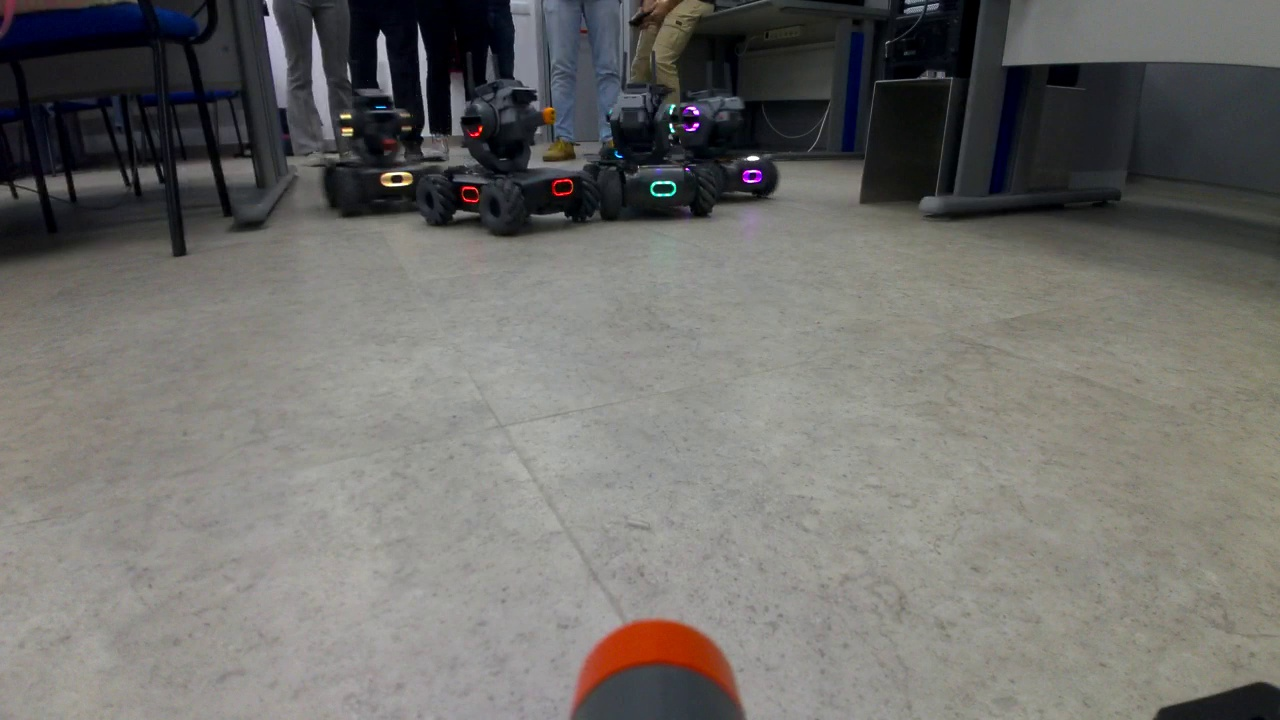robot: (422, 83, 602, 238), (577, 82, 717, 217), (319, 91, 437, 218), (677, 88, 781, 200)
